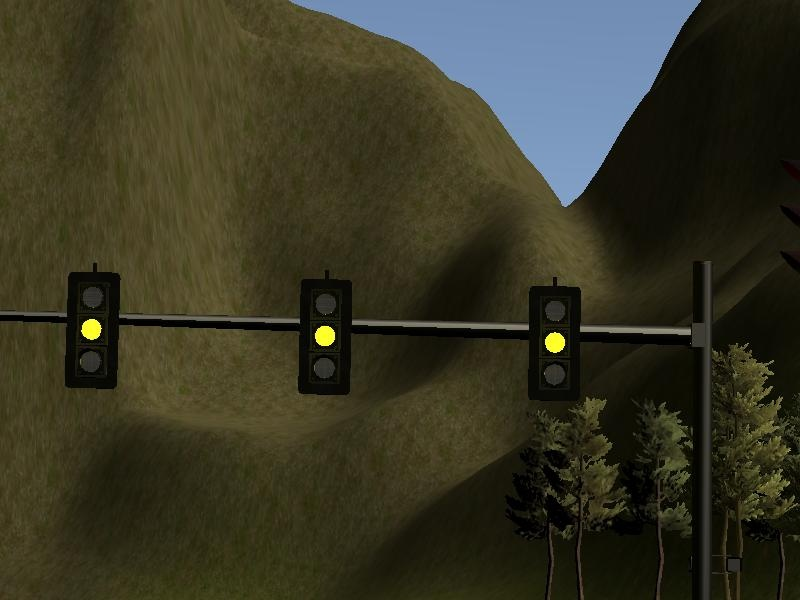YELLOW: (63, 267, 120, 391), (295, 273, 352, 397), (523, 282, 580, 406)
